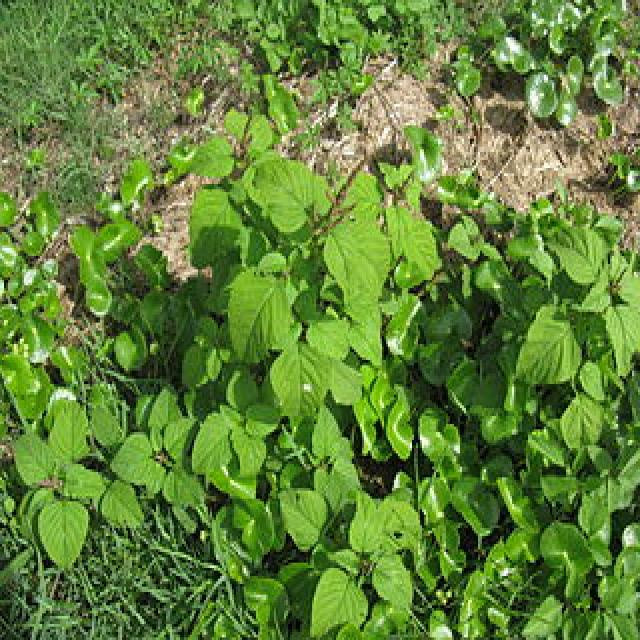Medicinal-Arive Dantu: (221, 159, 393, 361), (262, 468, 425, 636), (523, 230, 637, 380), (6, 436, 126, 552)
